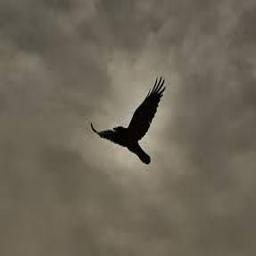Crow: (91, 77, 165, 164)
